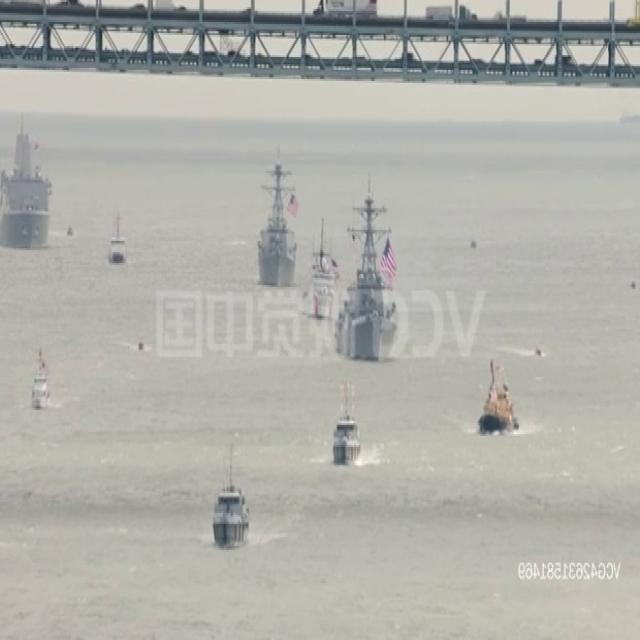houseboat: (211, 437, 251, 544), (479, 354, 521, 438), (332, 377, 364, 466), (304, 219, 333, 314), (106, 204, 130, 266), (29, 348, 50, 405), (137, 335, 146, 357), (533, 344, 545, 360), (468, 239, 478, 253), (65, 227, 75, 237)
navalvessels: (333, 176, 398, 355), (0, 116, 54, 250), (256, 146, 301, 284)
